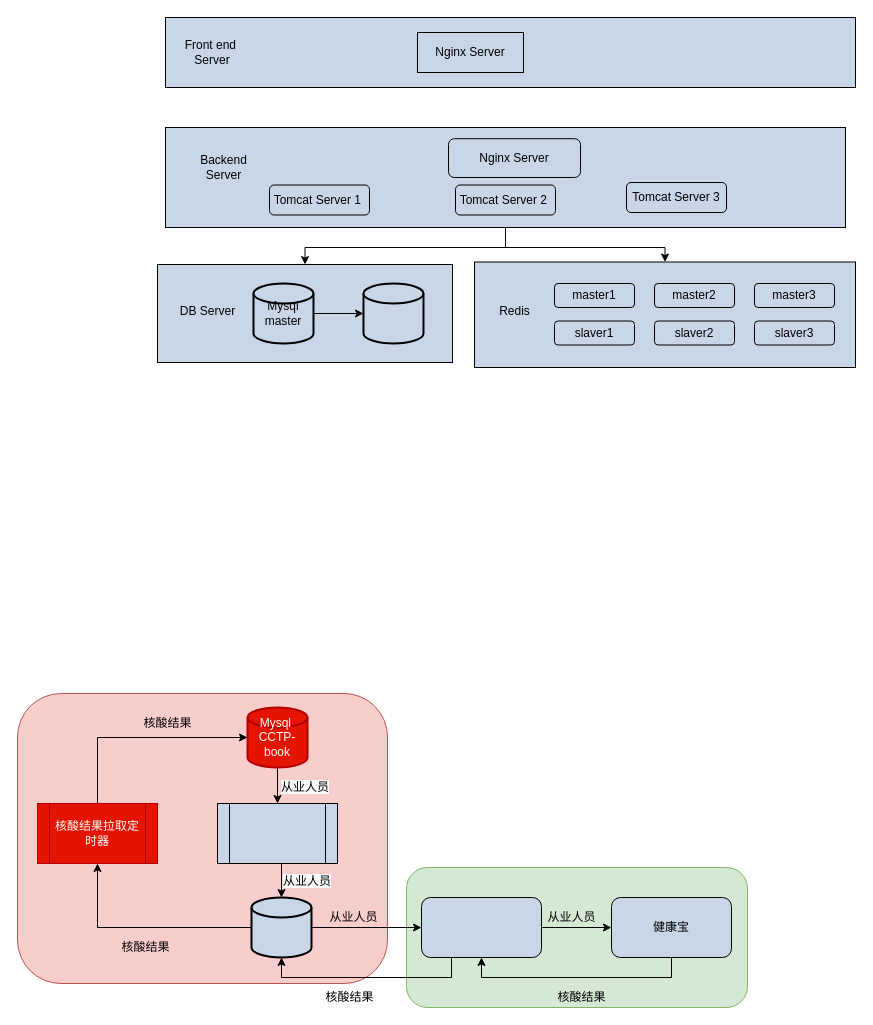
The diagram is 873 pixels wide and 1025 high, and some of its shapes have lost their labels. Here are the shapes that lost their labels. From the top down, the centre of each, then its label:
At (393,313): "Mysql slaver".
At (277,833): "从业人员数据推送定时器".
At (281,927): "Mysql CCTP-Mid".
At (481,927): "大数据中心".
